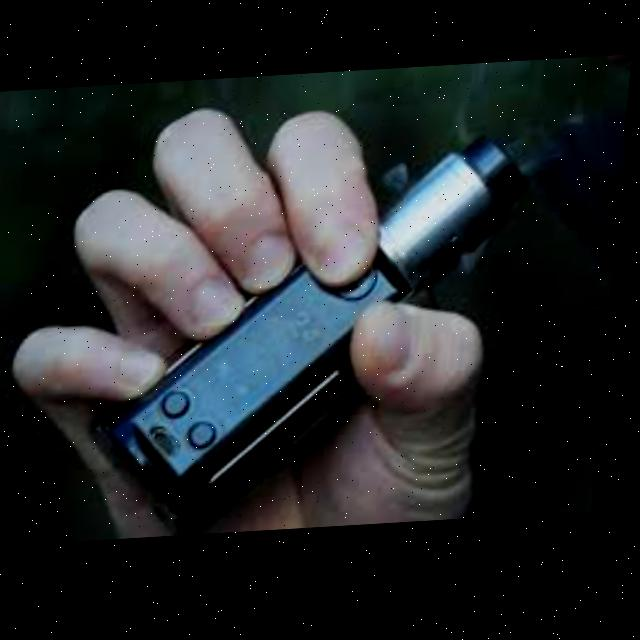vape: (101, 142, 542, 532)
